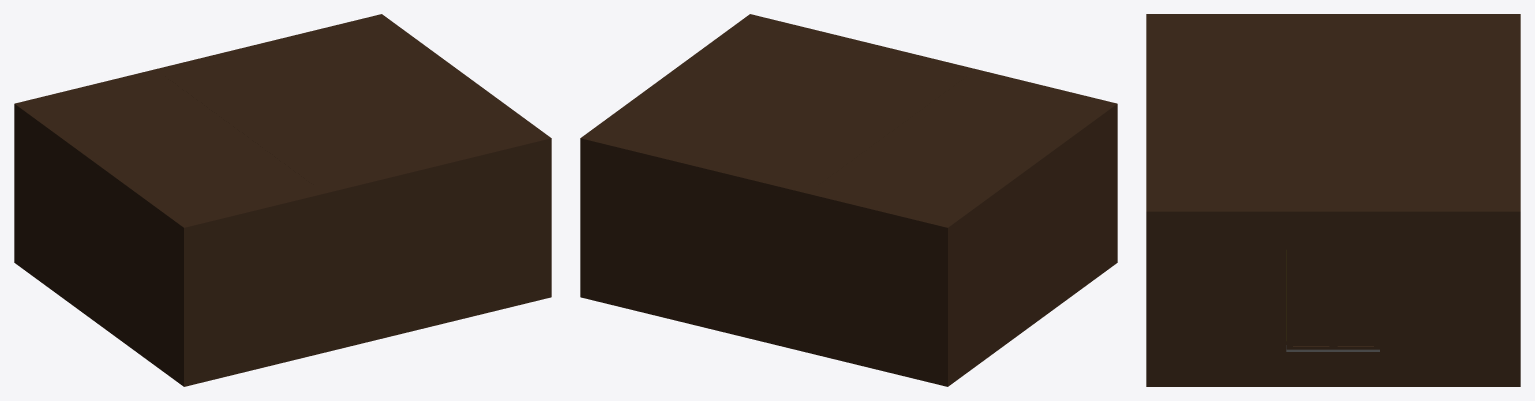
File: PosKesehatan.glb
The picture shows the model from 3 angles, left to right: view 1: azimuth 30°, elevation 25°; view 2: azimuth 150°, elevation 25°; view 3: azimuth 270°, elevation 25°; orthographic projection. The views are drawn at different scales.
Parts seen in each view (by area): view 1: Cube; view 2: Cube; view 3: Cube, Cube.001.
Part boxes in pixels (x1,y1,x2,y2): Cube: (14, 14, 551, 386); Cube: (580, 14, 1117, 386); Cube: (1146, 14, 1520, 386); Cube.001: (1286, 249, 1379, 349).
Bounding box in the file's own units: 10 × 4.14 × 8.
